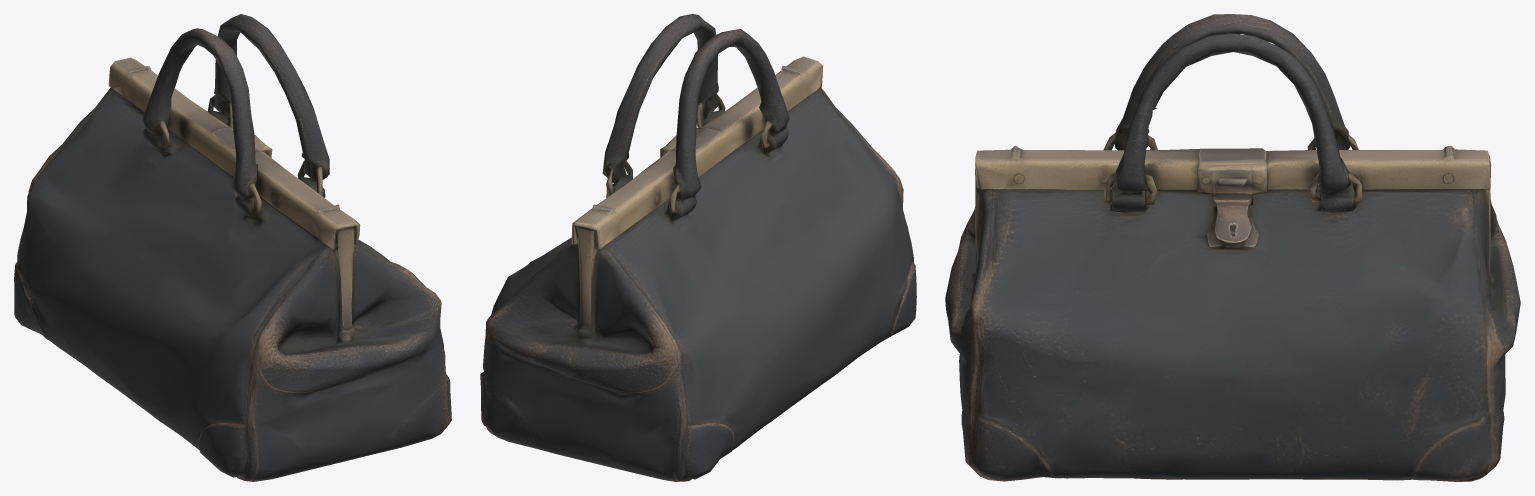
The model's file is borsa.glb.
3 views of the same model, side by side, from view 1: azimuth 30°, elevation 25°; view 2: azimuth 150°, elevation 25°; view 3: azimuth 270°, elevation 25° (orthographic). The views are drawn at different scales.
Visible parts, largest first — view 1: tripo_node_94c4e65f-7421-4689-a698-dfd6f9e08052; view 2: tripo_node_94c4e65f-7421-4689-a698-dfd6f9e08052; view 3: tripo_node_94c4e65f-7421-4689-a698-dfd6f9e08052.
Boxes of the visible parts, x1,y1,x2,y2 form: tripo_node_94c4e65f-7421-4689-a698-dfd6f9e08052: (14, 14, 451, 481); tripo_node_94c4e65f-7421-4689-a698-dfd6f9e08052: (480, 14, 916, 481); tripo_node_94c4e65f-7421-4689-a698-dfd6f9e08052: (945, 14, 1520, 481).
Size of the model in its own units: 0.1704 by 0.25 by 0.3158.
Materials: 1 (1 with a texture image).
